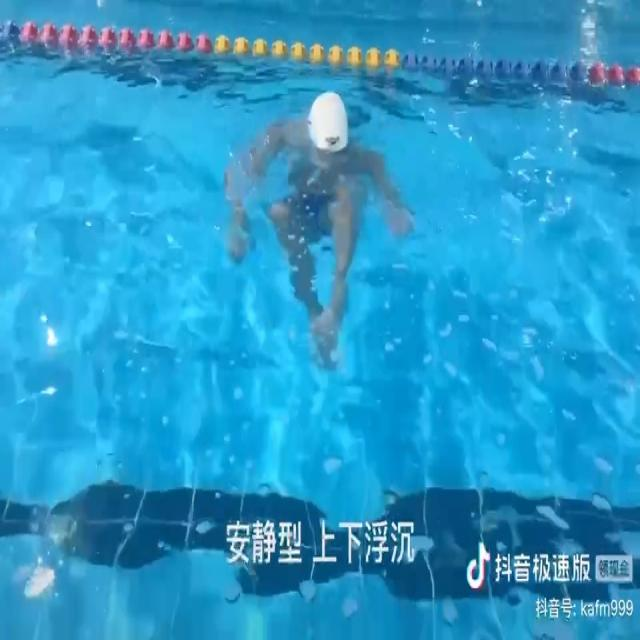Drowning: (223, 90, 414, 364)
